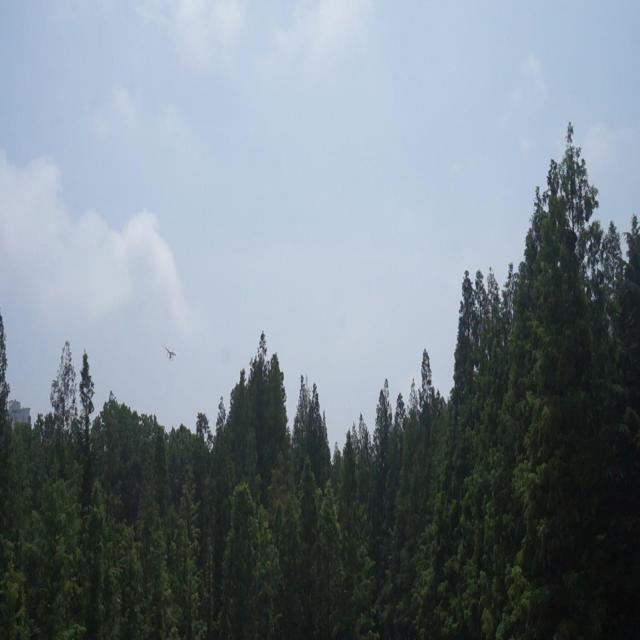UAV: (163, 345, 176, 361)
